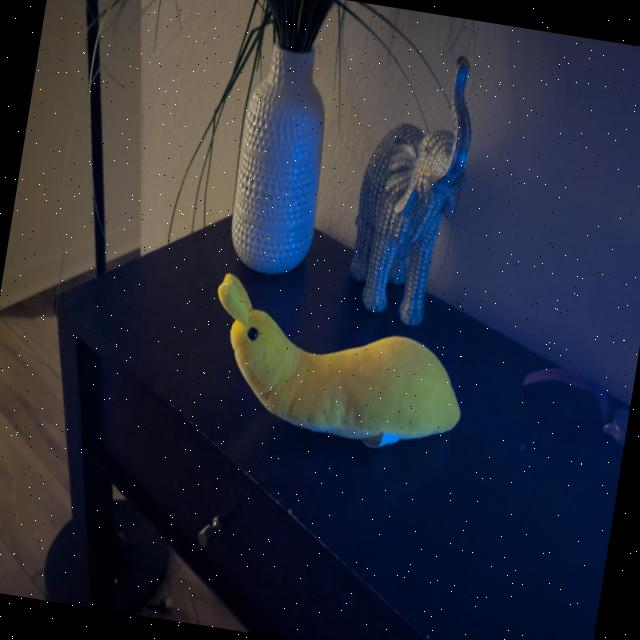banana-slug-toy: (192, 258, 494, 465)
